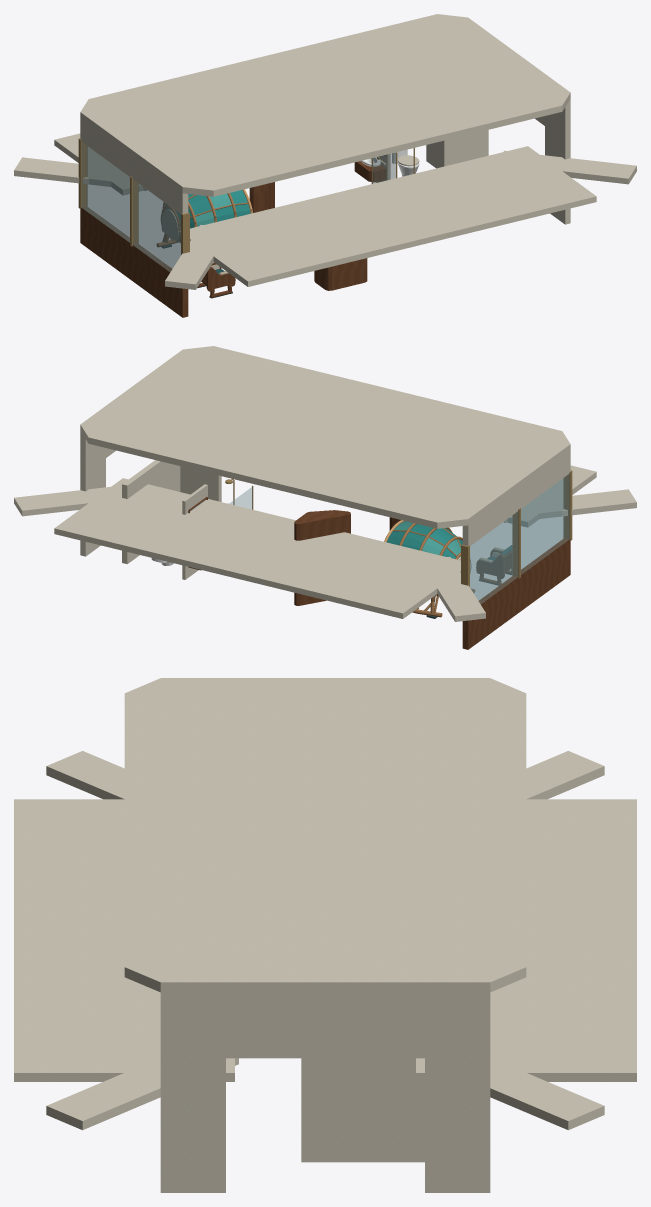
File: D04_PORT_FORWARD_HOME_880_r001.glb
3 views of the same model, one above another, from view 1: azimuth 30°, elevation 25°; view 2: azimuth 150°, elevation 25°; view 3: azimuth 270°, elevation 25° (orthographic). The views are drawn at different scales.
Parts seen in each view (by area): view 1: D04H880_Roof, D04H880_Shell_4, D04H880_GardenGlass, D04H880_GardenDado, D04H880_GardenHead, D04H880_Shell_5, D04H880_Shell_7, D04H880_Shell_3, D04H880_EntryWall_1, D04H880_Shell_0, D04H880_BathScreen, D04H880_BelongingsCabinet (+6 smaller); view 2: D04H880_Roof, D04H880_Shell_0, D04H880_GardenGlass, D04H880_GardenDado, D04H880_GardenHead, D04H880_Shell_5, D04H880_Shell_7, D04H880_QuietWing, D04H880_Shell_1, D04H880_BathDogleg, D04H880_EntryWall_0, D04H880_Shell_4 (+5 smaller); view 3: D04H880_Roof, D04H880_Shell_0, D04H880_Shell_4, D04H880_EntryHeader, D04H880_EntryWall_0, D04H880_EntryWall_1, D04H880_BathDogleg, D04H880_Shell_3, D04H880_Shell_1, D04H880_Shell_5, D04H880_Shell_7, D04H880_BathScreen.
Boxes of the visible parts, x1,y1,x2,y2 form: D04H880_Roof: (80,14,570,196); D04H880_Shell_4: (179,146,596,286); D04H880_GardenGlass: (81,142,180,272); D04H880_GardenDado: (80,206,188,317); D04H880_GardenHead: (80,118,188,213); D04H880_Shell_5: (165,225,224,289); D04H880_Shell_7: (14,157,146,190); D04H880_Shell_3: (503,150,636,184); D04H880_EntryWall_1: (545,99,570,224); D04H880_Shell_0: (54,133,142,195); D04H880_BathScreen: (441,130,487,167); D04H880_BelongingsCabinet: (314,258,367,290); D04H880_Roof: (80,346,570,528); D04H880_Shell_0: (54,478,471,618); D04H880_GardenGlass: (470,474,569,603); D04H880_GardenDado: (462,538,570,649); D04H880_GardenHead: (462,450,570,545); D04H880_Shell_5: (504,489,636,522); D04H880_Shell_7: (424,557,485,621); D04H880_QuietWing: (294,510,350,605); D04H880_Shell_1: (14,486,110,516); D04H880_BathDogleg: (122,460,180,564); D04H880_EntryWall_0: (80,431,105,556); D04H880_Shell_4: (508,465,596,527); D04H880_Roof: (124,678,526,992); D04H880_Shell_0: (416,799,636,1081); D04H880_Shell_4: (14,799,234,1081); D04H880_EntryHeader: (226,992,424,1058); D04H880_EntryWall_0: (425,992,490,1192); D04H880_EntryWall_1: (160,992,225,1192); D04H880_BathDogleg: (301,1058,424,1162); D04H880_Shell_3: (46,1057,238,1130); D04H880_Shell_1: (420,1058,604,1130); D04H880_Shell_5: (46,751,124,799); D04H880_Shell_7: (526,751,604,799); D04H880_BathScreen: (301,1058,311,1162).
Size of the model in its own units: 15.7 by 4.16 by 11.16.
Materials: 35 (20 with a texture image).
